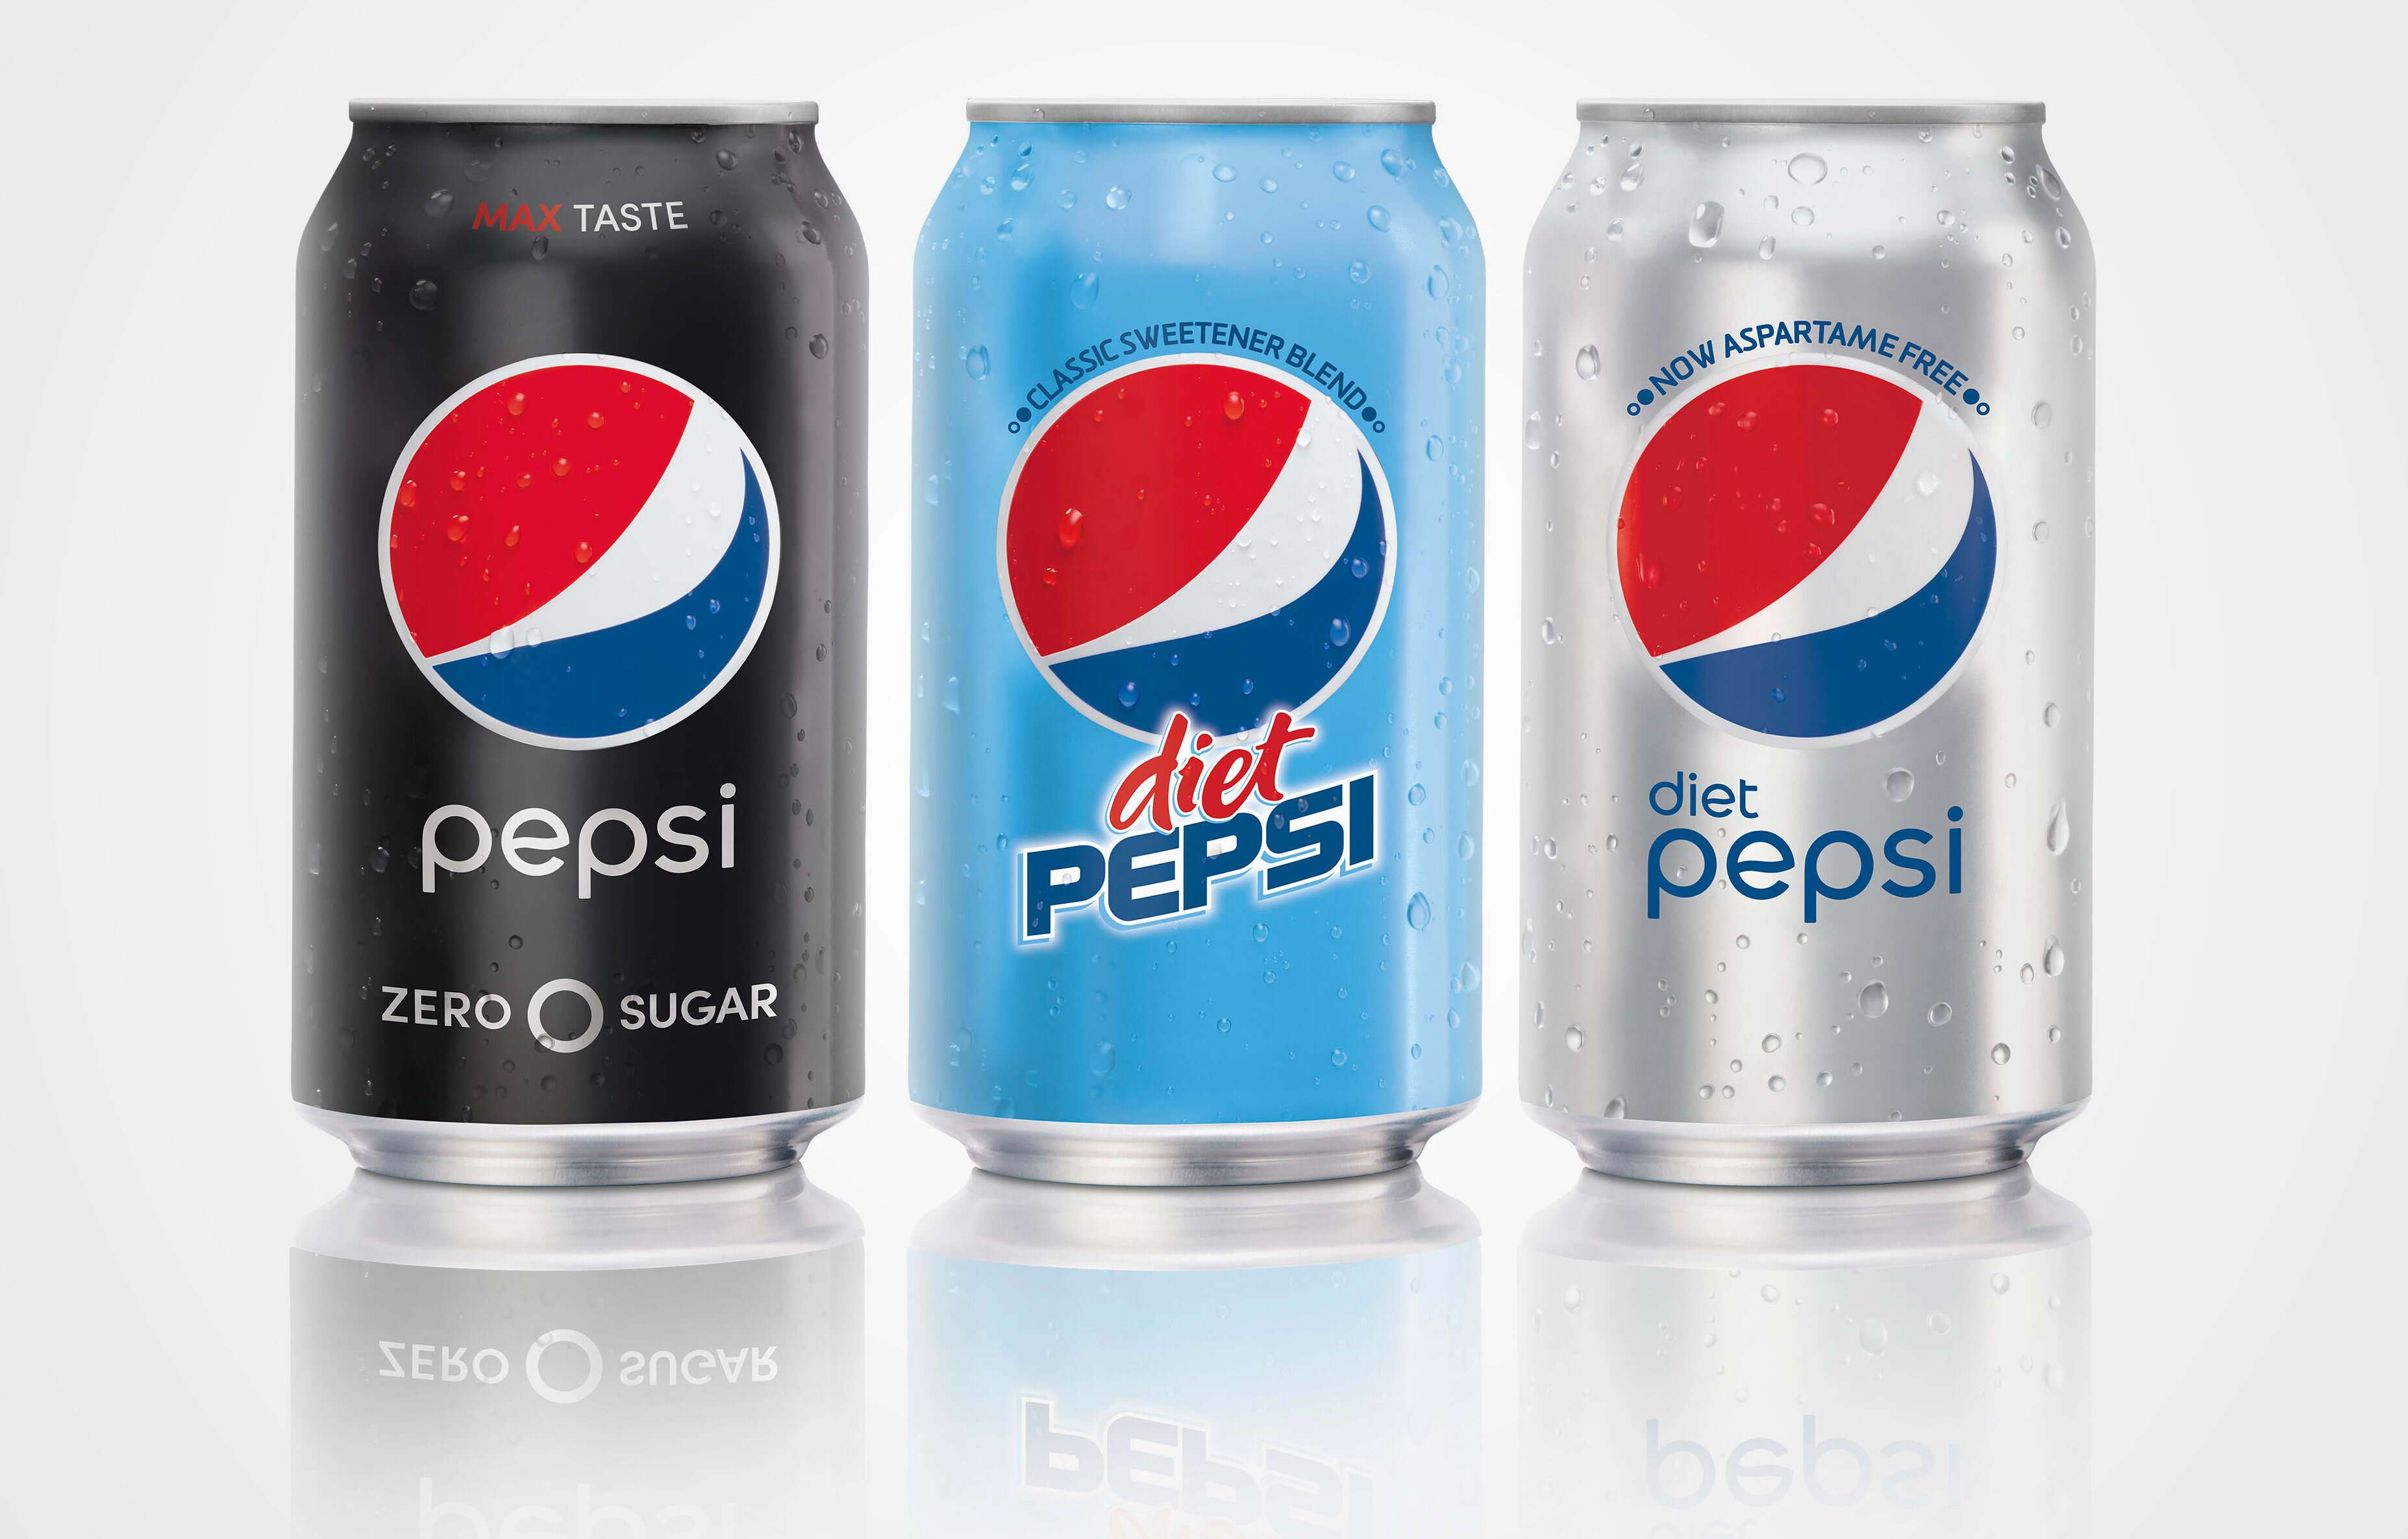pepsi_can: (284, 86, 881, 1190), (1516, 91, 2099, 1195)
